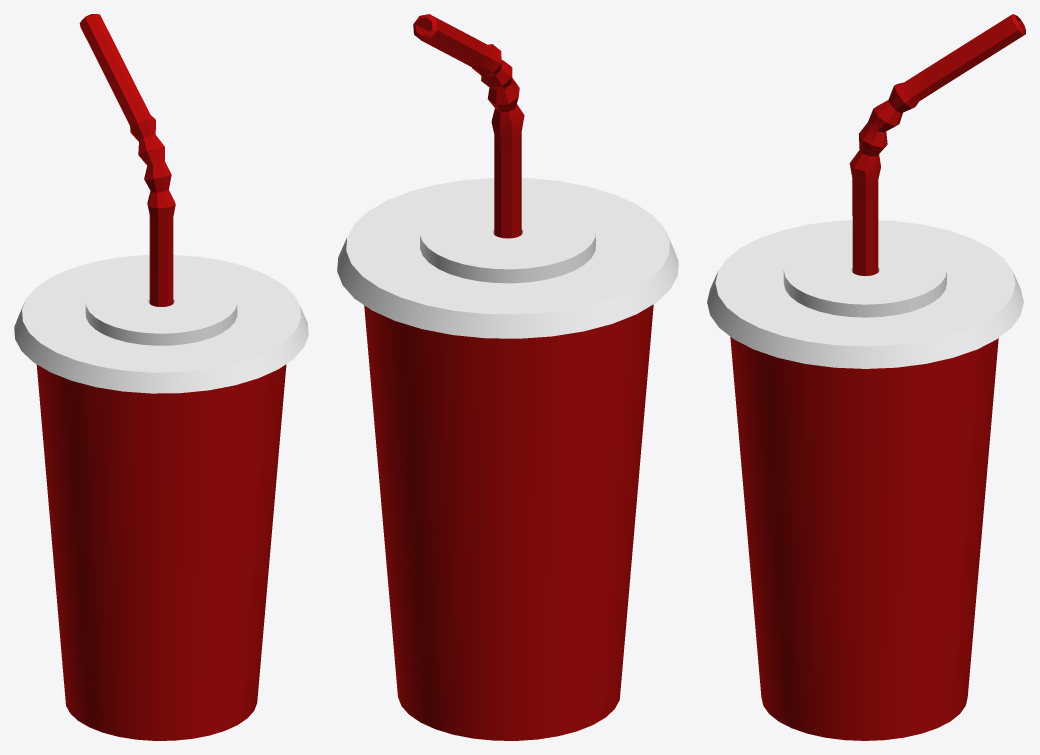
File: Drinks_06.glb
3 renders of one model, left to right at view 1: azimuth 30°, elevation 25°; view 2: azimuth 150°, elevation 25°; view 3: azimuth 270°, elevation 25°, orthographic. The views are drawn at different scales.
Visible parts, largest first — view 1: Mesh_Drinks_06; view 2: Mesh_Drinks_06; view 3: Mesh_Drinks_06.
Part boxes in pixels (x1,y1,x2,y2): Mesh_Drinks_06: (14, 14, 308, 740); Mesh_Drinks_06: (337, 14, 678, 740); Mesh_Drinks_06: (707, 14, 1025, 740).
Bounding box in the file's own units: 0.1152 × 0.2738 × 0.1159.
1 material, 1 textured.
